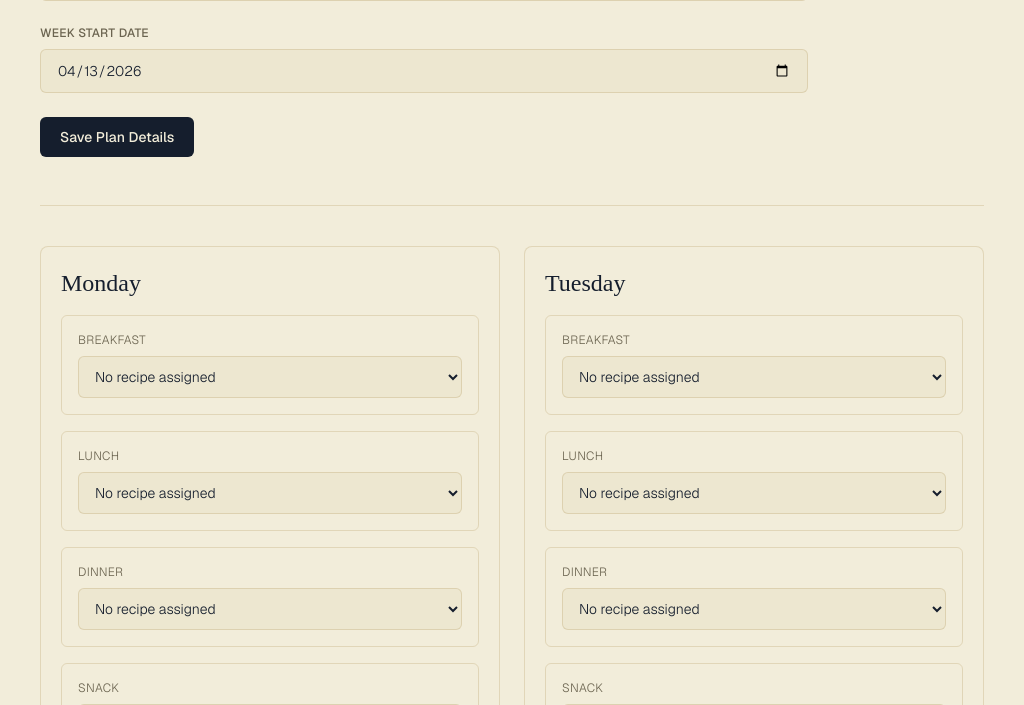
Test: EditWeeklyMealPlanClient › assigns a recipe to a day and meal via POST, then shows it in the weekly grid
(page scrolled)
Select "Oatmeal Bowl" in the 1st dropdown at (270, 377), box [78,356,462,398]
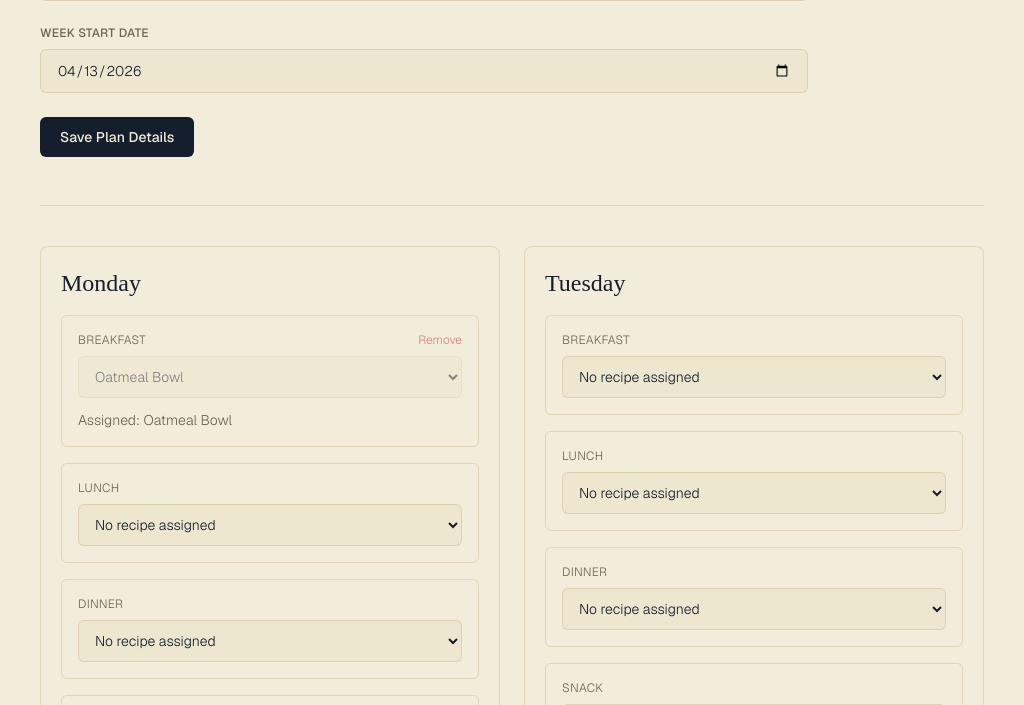
Check: the text "Assigned: Oatmeal Bowl" is shown, box [78,411,232,429]
